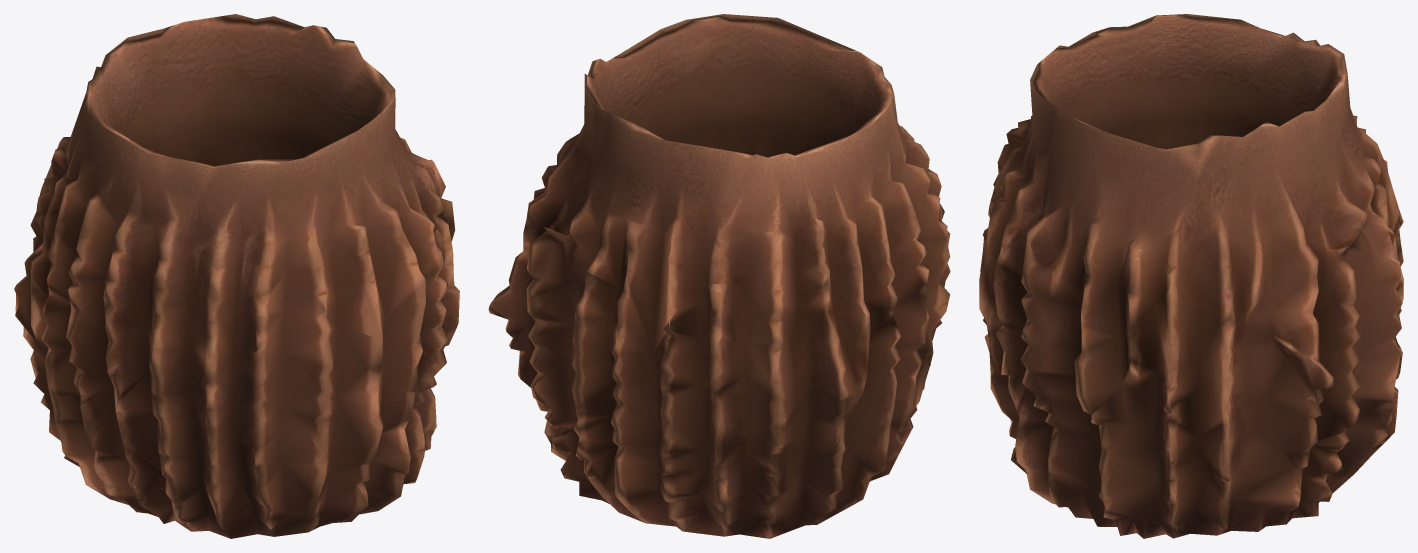
File: tonspons.glb
3 views of the same model, side by side, from view 1: azimuth 30°, elevation 25°; view 2: azimuth 150°, elevation 25°; view 3: azimuth 270°, elevation 25° (orthographic).
Visible parts, largest first — view 1: tripo_node_efd8d55d-d4e4-4fce-9eae-905b2e0d1248; view 2: tripo_node_efd8d55d-d4e4-4fce-9eae-905b2e0d1248; view 3: tripo_node_efd8d55d-d4e4-4fce-9eae-905b2e0d1248.
Boxes of the visible parts, x1,y1,x2,y2 form: tripo_node_efd8d55d-d4e4-4fce-9eae-905b2e0d1248: [14, 14, 459, 538]; tripo_node_efd8d55d-d4e4-4fce-9eae-905b2e0d1248: [488, 14, 950, 538]; tripo_node_efd8d55d-d4e4-4fce-9eae-905b2e0d1248: [979, 14, 1403, 538].
Size of the model in its own units: 0.1988 by 0.2 by 0.1898.
1 material, 1 textured.
